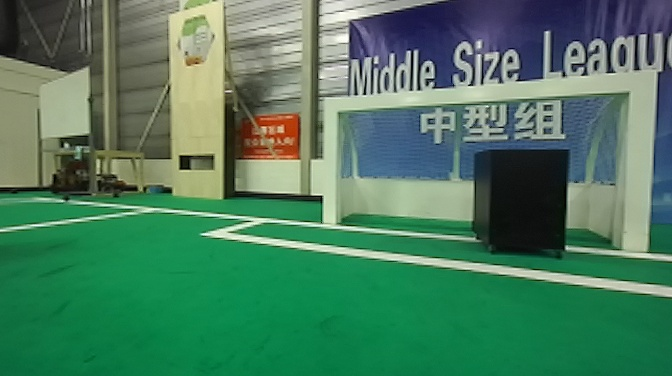goalpost: (625, 67, 652, 256), (325, 99, 343, 223)
